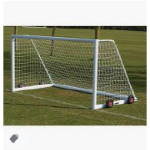goals: (10, 33, 140, 111)
